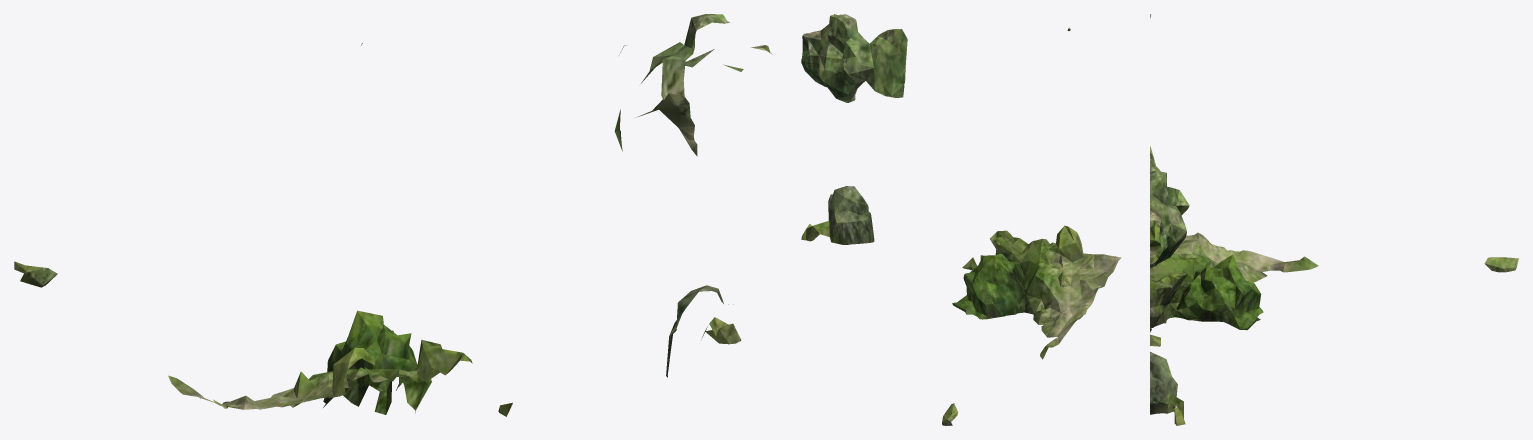
3 views of the same model, side by side, from view 1: azimuth 30°, elevation 25°; view 2: azimuth 150°, elevation 25°; view 3: azimuth 270°, elevation 25° (orthographic). The views are drawn at different scales.
Size of the model in its own units: 26.11 by 20.73 by 24.83.
1 material, 1 textured.
